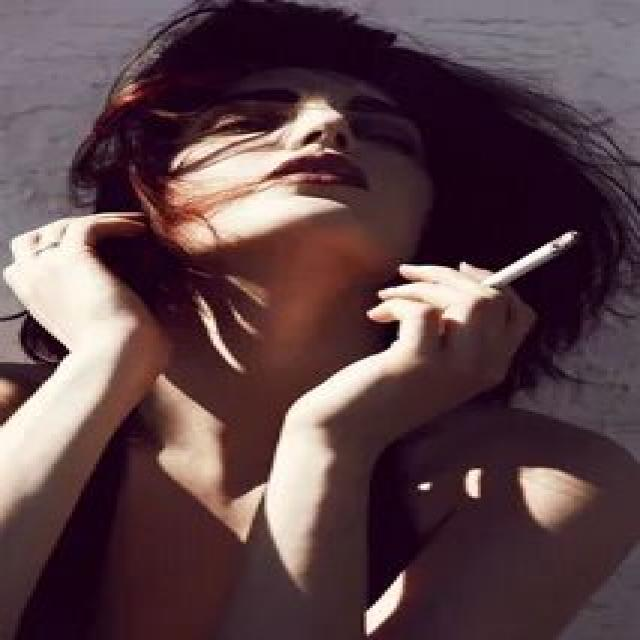cigarette: (475, 228, 583, 290)
